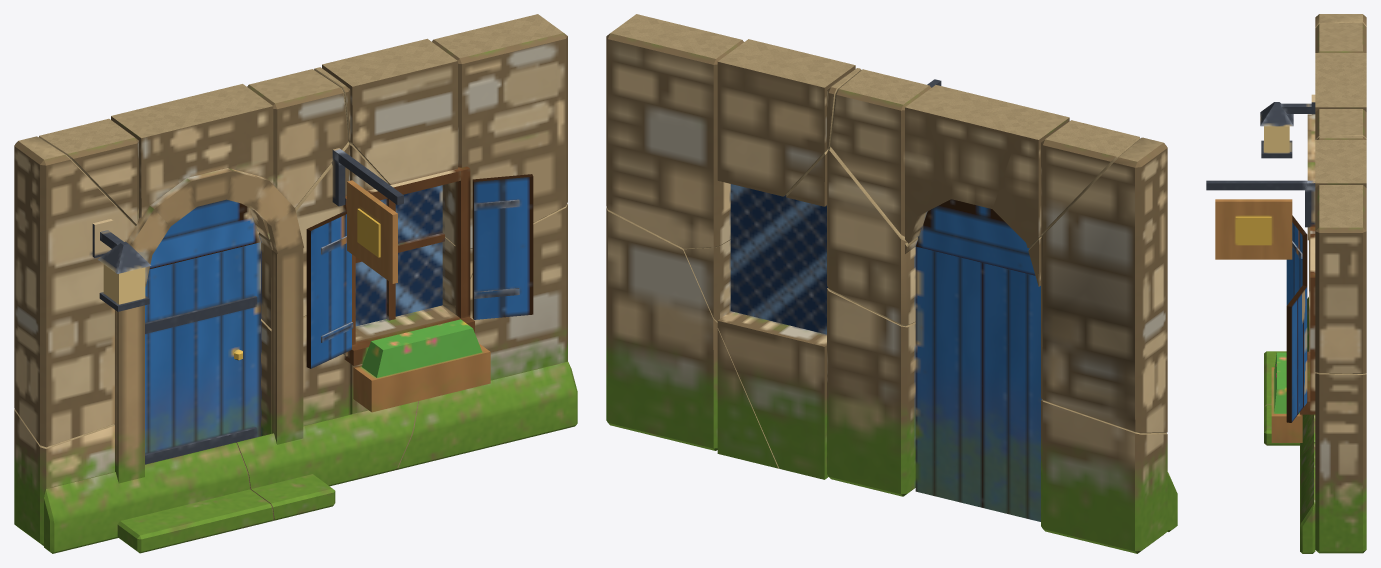
Rendered from Kit_House_GroundDoor_Fractured.fbx.
3 views of the same model, side by side, from view 1: azimuth 30°, elevation 25°; view 2: azimuth 150°, elevation 25°; view 3: azimuth 270°, elevation 25° (orthographic). The views are drawn at different scales.
Visible parts, largest first — view 1: Kit_House_GroundDoor_frag_02, Kit_House_GroundDoor_frag_03, Kit_House_GroundDoor_frag_04, Kit_House_GroundDoor_frag_05, Kit_House_GroundDoor_frag_06, Kit_House_GroundDoor_frag_07, Kit_House_GroundDoor_frag_01; view 2: Kit_House_GroundDoor_frag_03, Kit_House_GroundDoor_frag_02, Kit_House_GroundDoor_frag_05, Kit_House_GroundDoor_frag_04, Kit_House_GroundDoor_frag_06, Kit_House_GroundDoor_frag_01, Kit_House_GroundDoor_frag_07; view 3: Kit_House_GroundDoor_frag_02, Kit_House_GroundDoor_frag_01, Kit_House_GroundDoor_frag_05, Kit_House_GroundDoor_frag_07, Kit_House_GroundDoor_frag_06, Kit_House_GroundDoor_frag_04, Kit_House_GroundDoor_frag_03.
Boxes of the visible parts, <box> form: Kit_House_GroundDoor_frag_02: <box>314,14,567,319</box>; Kit_House_GroundDoor_frag_03: <box>14,242,273,553</box>; Kit_House_GroundDoor_frag_04: <box>14,136,257,483</box>; Kit_House_GroundDoor_frag_05: <box>39,69,403,268</box>; Kit_House_GroundDoor_frag_06: <box>234,237,490,520</box>; Kit_House_GroundDoor_frag_07: <box>258,142,444,368</box>; Kit_House_GroundDoor_frag_01: <box>395,204,577,470</box>; Kit_House_GroundDoor_frag_03: <box>915,246,1177,553</box>; Kit_House_GroundDoor_frag_02: <box>606,14,861,248</box>; Kit_House_GroundDoor_frag_05: <box>830,69,1139,275</box>; Kit_House_GroundDoor_frag_04: <box>1028,137,1167,433</box>; Kit_House_GroundDoor_frag_06: <box>684,240,915,496</box>; Kit_House_GroundDoor_frag_01: <box>606,207,778,468</box>; Kit_House_GroundDoor_frag_07: <box>730,146,917,334</box>; Kit_House_GroundDoor_frag_02: <box>1286,136,1366,422</box>; Kit_House_GroundDoor_frag_01: <box>1300,372,1366,553</box>; Kit_House_GroundDoor_frag_05: <box>1206,22,1366,190</box>; Kit_House_GroundDoor_frag_07: <box>1215,181,1315,305</box>; Kit_House_GroundDoor_frag_06: <box>1264,240,1315,458</box>; Kit_House_GroundDoor_frag_04: <box>1260,14,1366,158</box>; Kit_House_GroundDoor_frag_03: <box>1264,297,1308,406</box>.
Size of what is drawn, in the model's own units: 4 by 2.8 by 1.25.
2 materials, 2 textured.
